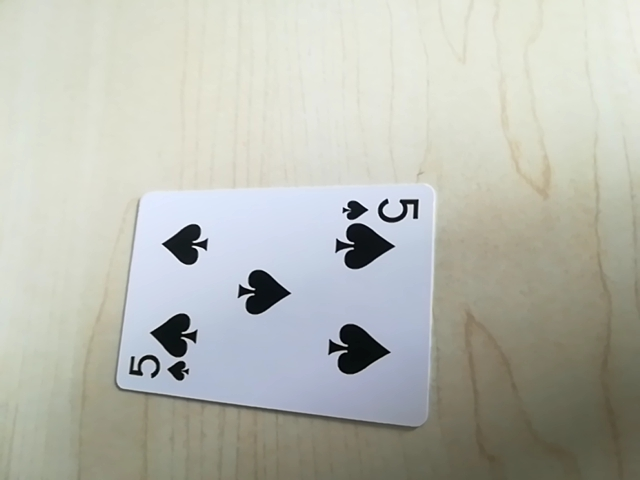ht 5: (340, 190, 422, 225), (121, 352, 196, 387)
